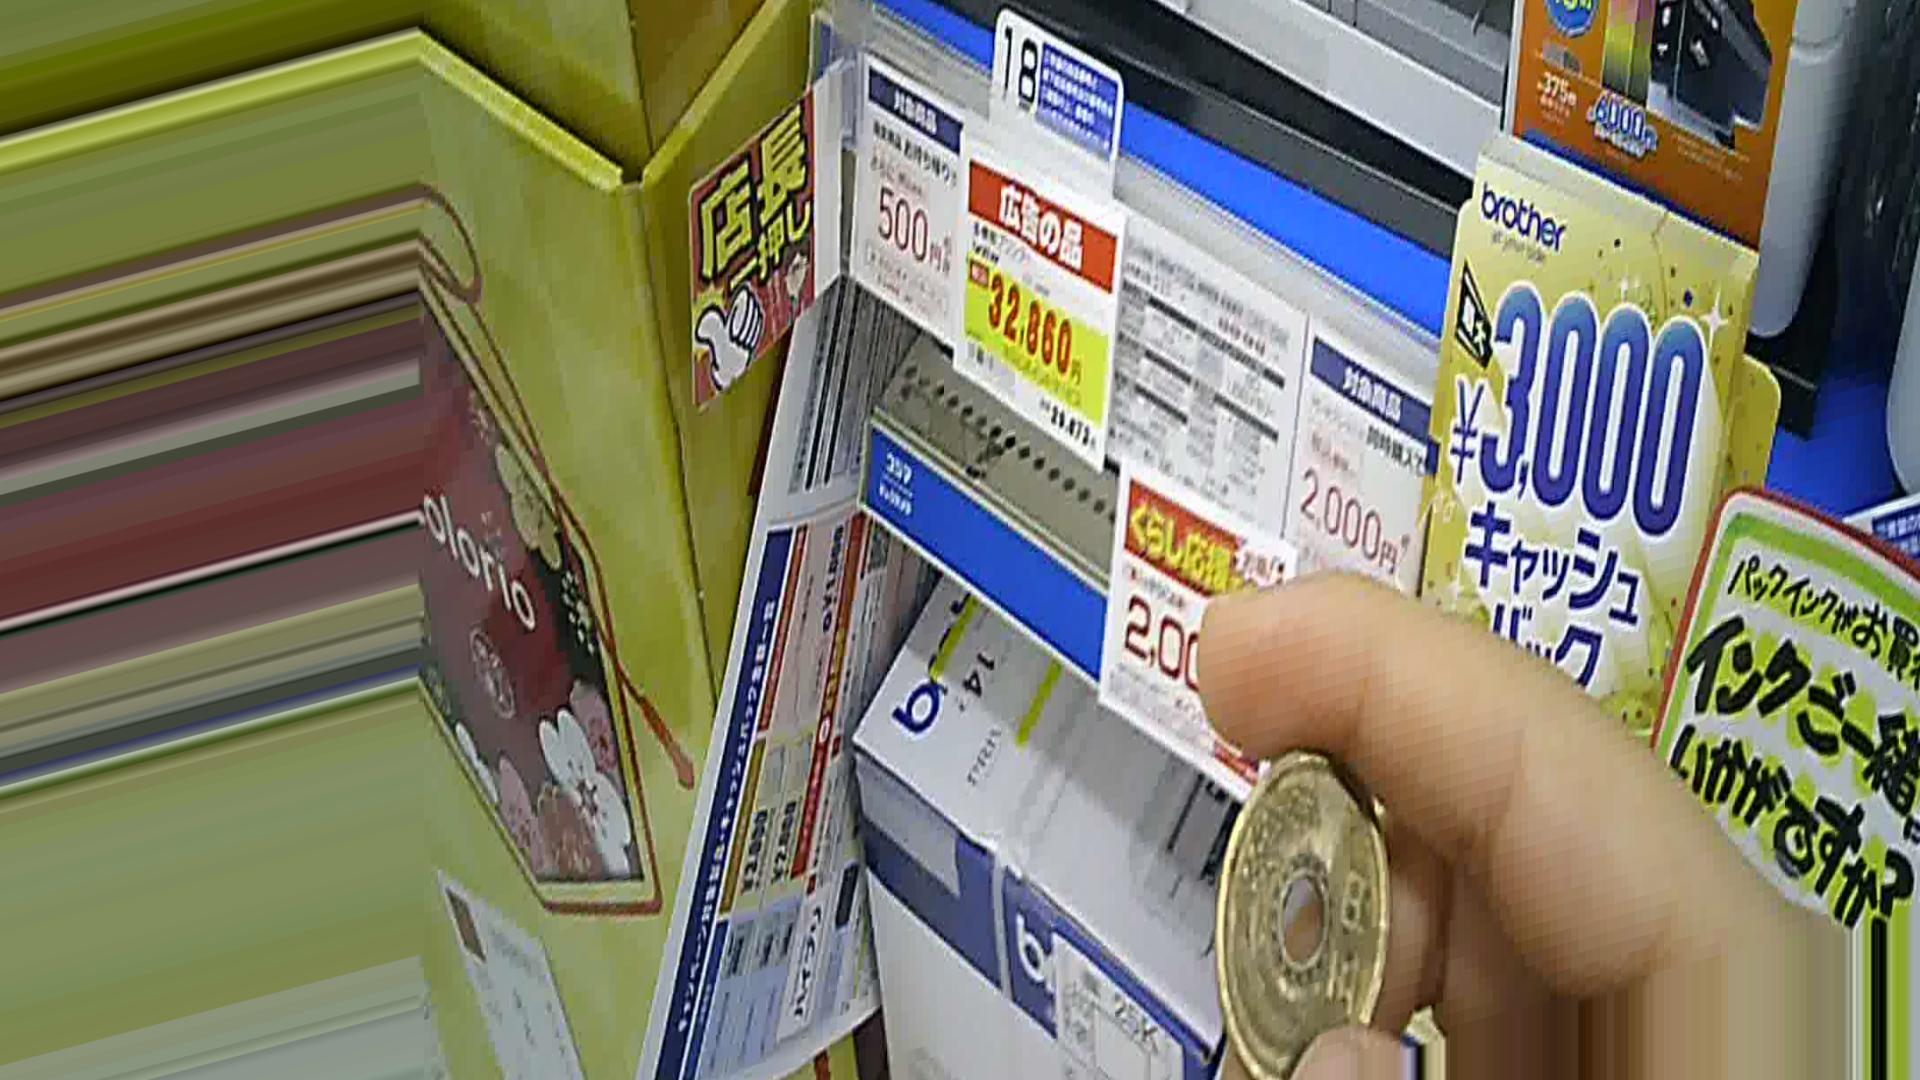5 Yen: (1207, 753, 1400, 1069)
